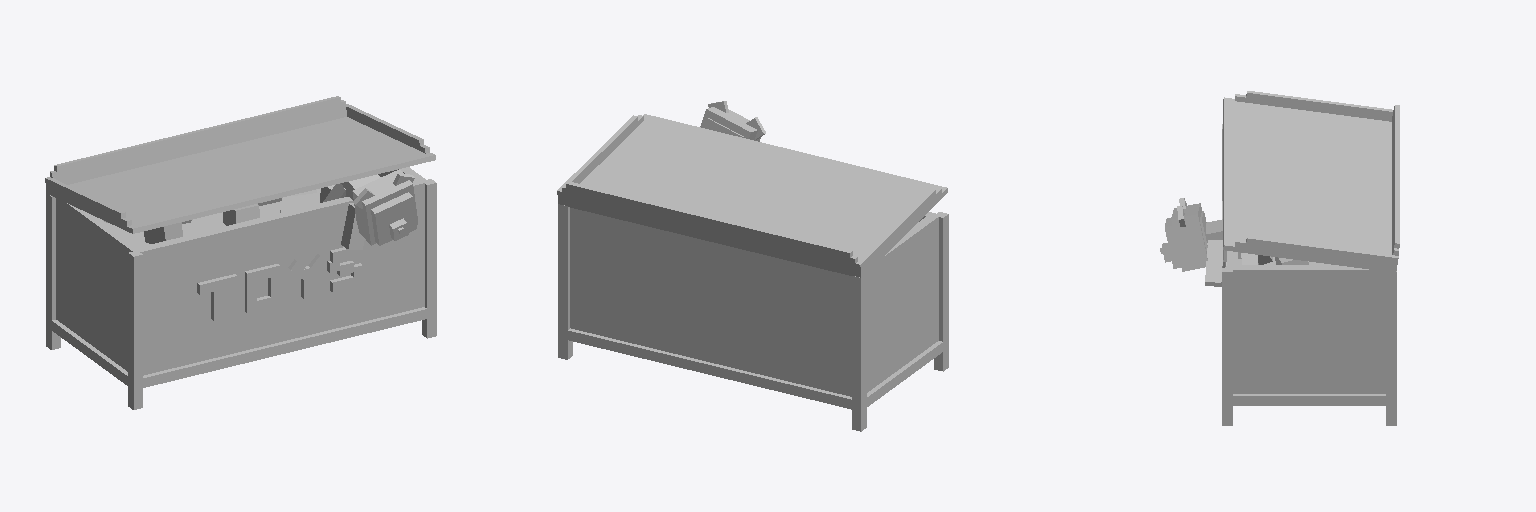
Rendered from 1254_toybox_boy.obj.
3 views of the same model, side by side, from view 1: azimuth 30°, elevation 25°; view 2: azimuth 150°, elevation 25°; view 3: azimuth 270°, elevation 25° (orthographic).
Parts seen in each view (by area): view 1: wall4, Lid, wall2, base, Rail5, leg1, Rail7, leg2, LionMane, Rail6, layer, leg4 (+7 smaller); view 2: wall3, Lid, wall2, base, Rail5, Rail7, leg4, leg3, leg1, Rail6, Rail4, LionMane (+2 smaller); view 3: Lid, wall1, base, LionMane, leg2, leg3, Rail3, Rail4, Rail7, Rail2, Rail, Arm2 (+1 smaller).
Part boxes in pixels (x1,y1,x2,y2): wall4: (140, 180, 419, 374); Lid: (46, 117, 435, 233); wall2: (56, 198, 144, 375); base: (46, 307, 436, 389); Rail5: (54, 107, 346, 184); leg1: (128, 252, 142, 409); Rail7: (54, 96, 340, 171); leg2: (422, 179, 436, 338); LionMane: (352, 169, 417, 245); Rail6: (50, 100, 345, 177); layer: (107, 188, 320, 246); leg4: (46, 193, 60, 349); wall3: (575, 209, 849, 395); Lid: (558, 114, 947, 278); wall2: (850, 213, 938, 396); base: (558, 328, 948, 411); Rail5: (562, 192, 855, 272); Rail7: (566, 181, 852, 257); leg4: (852, 274, 866, 431); leg3: (558, 204, 572, 359); leg1: (934, 212, 948, 371); Rail6: (562, 185, 857, 263); Rail4: (856, 188, 935, 268); LionMane: (700, 107, 760, 141); Lid: (1223, 97, 1396, 271); wall1: (1227, 265, 1385, 393); base: (1222, 394, 1396, 405); LionMane: (1171, 203, 1207, 271); leg2: (1222, 268, 1232, 425); leg3: (1386, 271, 1396, 425); Rail3: (1246, 236, 1398, 262); Rail4: (1246, 91, 1392, 116); Rail7: (1394, 105, 1399, 248); Rail2: (1235, 240, 1397, 267); Rail: (1235, 94, 1391, 121); Arm2: (1205, 240, 1223, 286).
Size of the model in its own units: 4 by 2.42 by 2.75.